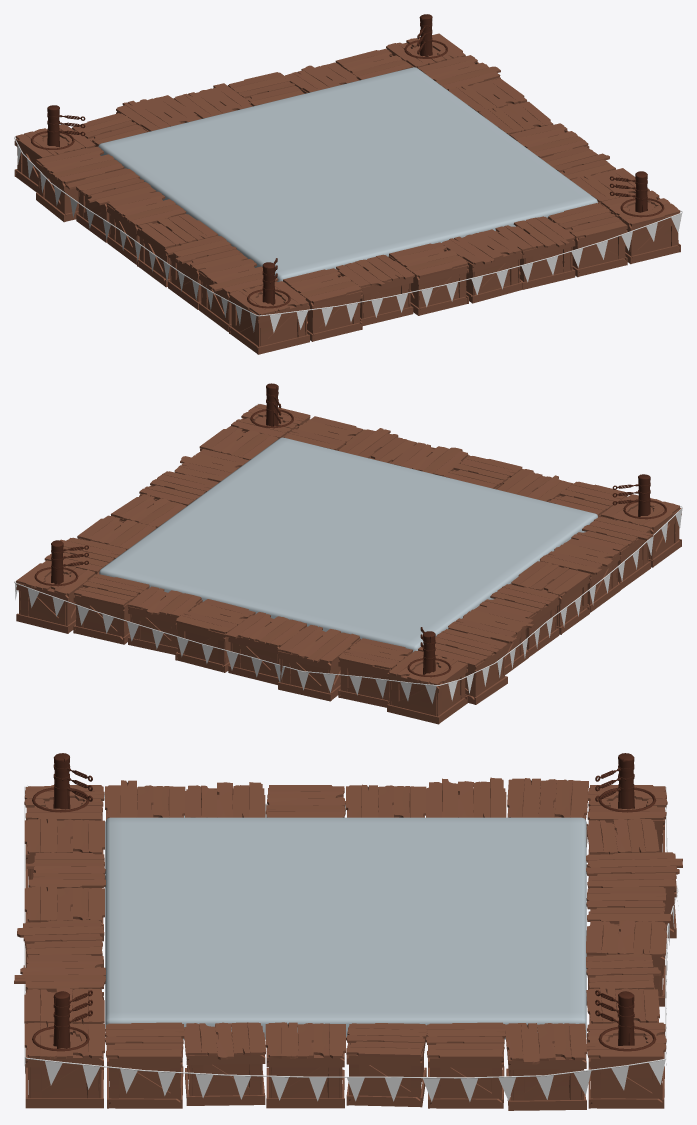
File: ring.fbx
3 views of the same model, one above another, from view 1: azimuth 30°, elevation 25°; view 2: azimuth 150°, elevation 25°; view 3: azimuth 270°, elevation 25° (orthographic). The views are drawn at different scales.
Visible parts, largest first — view 1: box_low.004, Cube.012, corner_low, Plane.006, Plane.005; view 2: box_low.004, Cube.012, corner_low, Plane.006, Plane.005; view 3: box_low.004, Cube.012, corner_low, Plane.006, Plane.005.
Boxes of the visible parts, box(x1,y1,x2,y2) form: box_low.004: box(14, 33, 680, 354); Cube.012: box(98, 67, 597, 281); corner_low: box(31, 14, 664, 308); Plane.006: box(16, 138, 681, 332); Plane.005: box(14, 34, 682, 316); box_low.004: box(16, 404, 681, 724); Cube.012: box(99, 437, 597, 652); corner_low: box(34, 383, 666, 677); Plane.006: box(15, 404, 682, 703); Plane.005: box(14, 403, 682, 685); box_low.004: box(14, 777, 682, 1110); Cube.012: box(105, 817, 586, 1039); corner_low: box(32, 753, 656, 1051); Plane.006: box(24, 794, 678, 1101); Plane.005: box(24, 785, 678, 1078).
Size of the model in its own units: 567 by 90.9 by 564.
